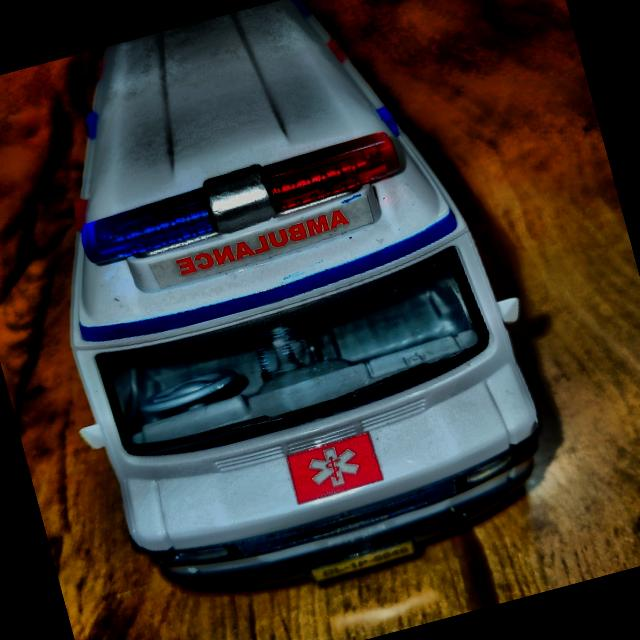Ambulance: (0, 0, 576, 634)
